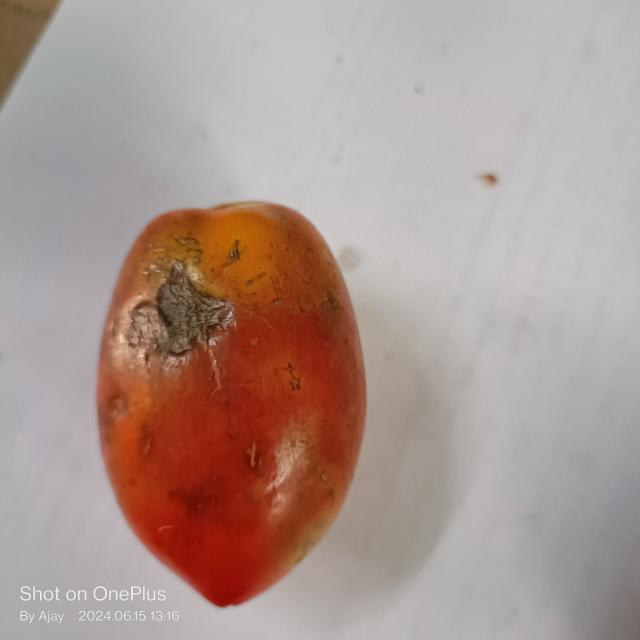Bacterial_Spot: (121, 259, 237, 359)
